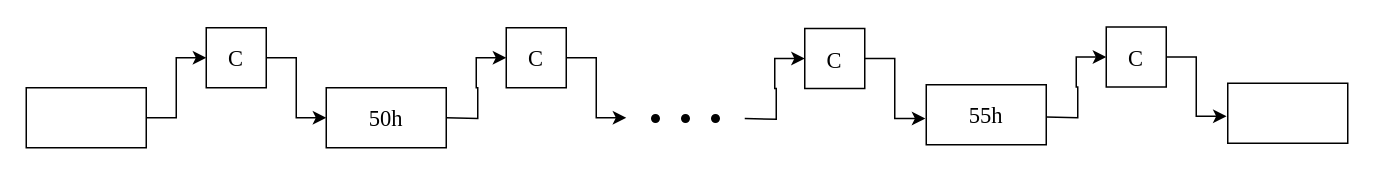
This 1374x174 diagram has some shape labels left out. Each missing label, with the centre of its shape:
"4Fh" belongs at pixel 85 117.
"56h" belongs at pixel 1287 112.
